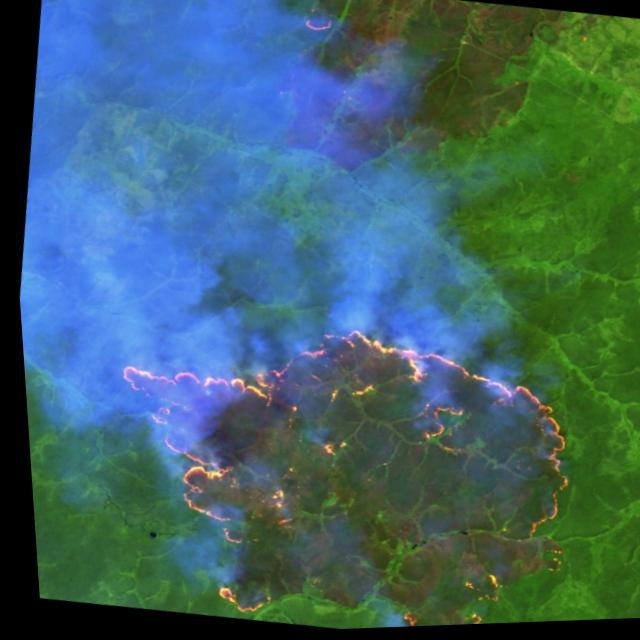fire: (54, 283, 616, 639), (279, 0, 348, 46)
